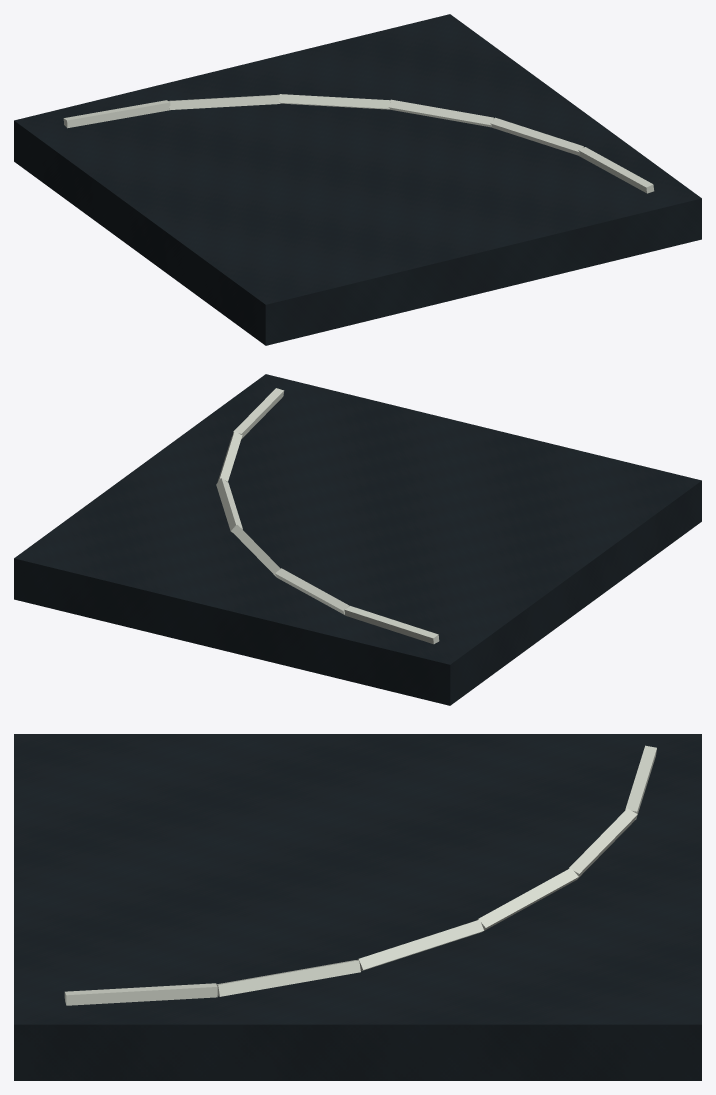
The model's file is Road_Corner_2m.glb.
3 views of the same model, one above another, from view 1: azimuth 30°, elevation 25°; view 2: azimuth 150°, elevation 25°; view 3: azimuth 270°, elevation 25° (orthographic). The views are drawn at different scales.
Parts seen in each view (by area): view 1: Road_Corner_2m; view 2: Road_Corner_2m; view 3: Road_Corner_2m.
Boxes of the visible parts, x1=… form: Road_Corner_2m: x1=14, y1=14, x2=701, y2=345; Road_Corner_2m: x1=14, y1=374, x2=701, y2=705; Road_Corner_2m: x1=14, y1=734, x2=701, y2=1080.
Size of the model in its own units: 2 by 0.2168 by 2.
Materials: 2 (1 with a texture image).
